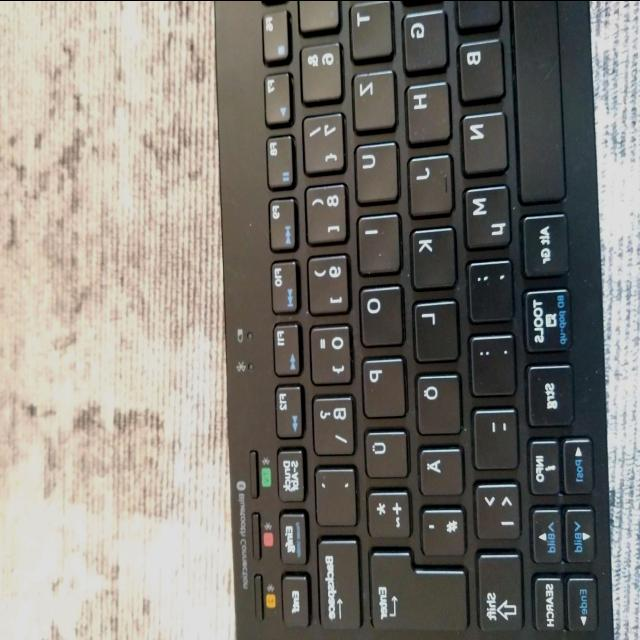0: (307, 320, 352, 384)
6: (298, 39, 342, 102)
7: (300, 109, 344, 173)
8: (303, 180, 347, 243)
9: (305, 249, 349, 313)
accent: (312, 462, 356, 524)
ae: (416, 444, 463, 495)
altgr-right: (520, 210, 568, 276)
b: (455, 34, 503, 100)
comma: (465, 255, 513, 321)
del: (314, 534, 360, 630)
enter: (365, 545, 468, 630)
g: (400, 8, 446, 70)
h: (404, 78, 450, 143)
hash: (417, 503, 465, 555)
i: (354, 210, 399, 273)
j: (405, 151, 452, 215)
k: (408, 224, 456, 288)
l: (411, 297, 459, 361)
less: (472, 478, 521, 539)
m: (462, 180, 510, 247)
minus: (470, 405, 518, 470)
n: (459, 107, 507, 172)
o: (357, 280, 403, 346)
oe: (414, 368, 461, 434)
p: (359, 353, 405, 417)
plus: (363, 485, 409, 537)
point: (467, 330, 514, 396)
shift-right: (474, 548, 523, 632)
space: (509, 0, 565, 202)
ss: (310, 390, 354, 454)
strg-right: (525, 361, 574, 427)
t: (347, 0, 391, 58)
u: (352, 138, 398, 202)
ue: (361, 424, 407, 476)
z: (350, 67, 396, 130)
